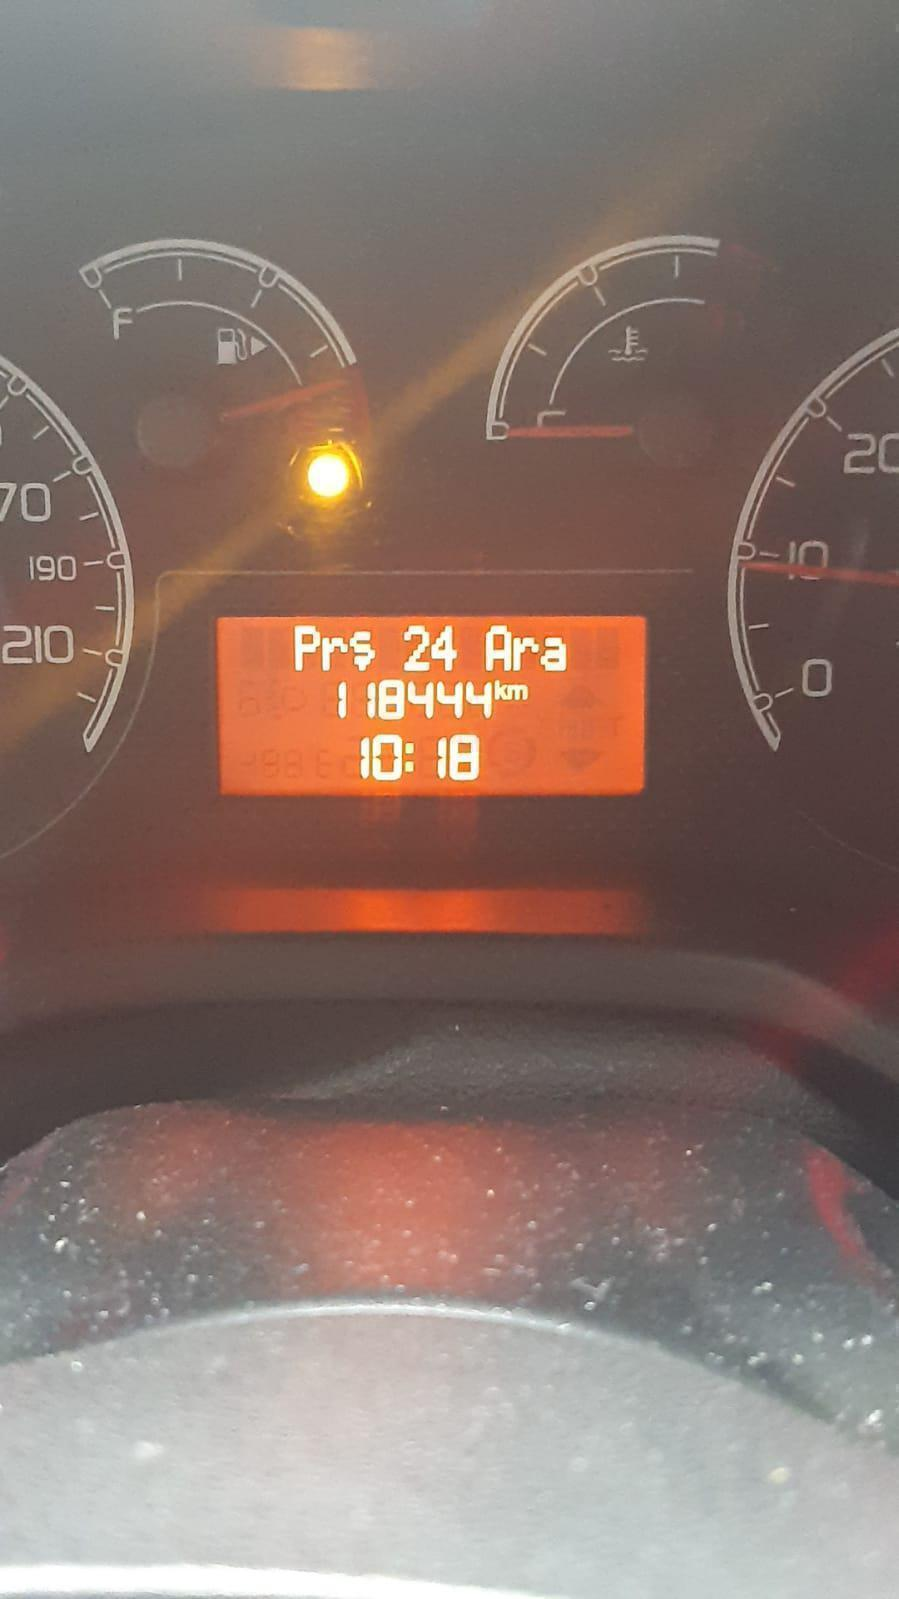0: (372, 731, 402, 783)
1: (357, 731, 370, 783), (434, 731, 447, 783), (334, 678, 349, 722), (364, 678, 378, 720)
2: (403, 622, 431, 673)
4: (431, 622, 458, 671), (464, 678, 494, 720), (436, 679, 464, 722), (407, 677, 435, 720)
8: (448, 731, 480, 783), (378, 677, 405, 722)
X: (483, 623, 512, 672), (292, 623, 319, 672), (348, 627, 377, 672), (540, 635, 568, 673), (321, 634, 347, 672), (512, 633, 537, 671), (404, 740, 417, 775), (506, 682, 526, 701), (493, 677, 506, 700)
odometer: (209, 610, 655, 806)
